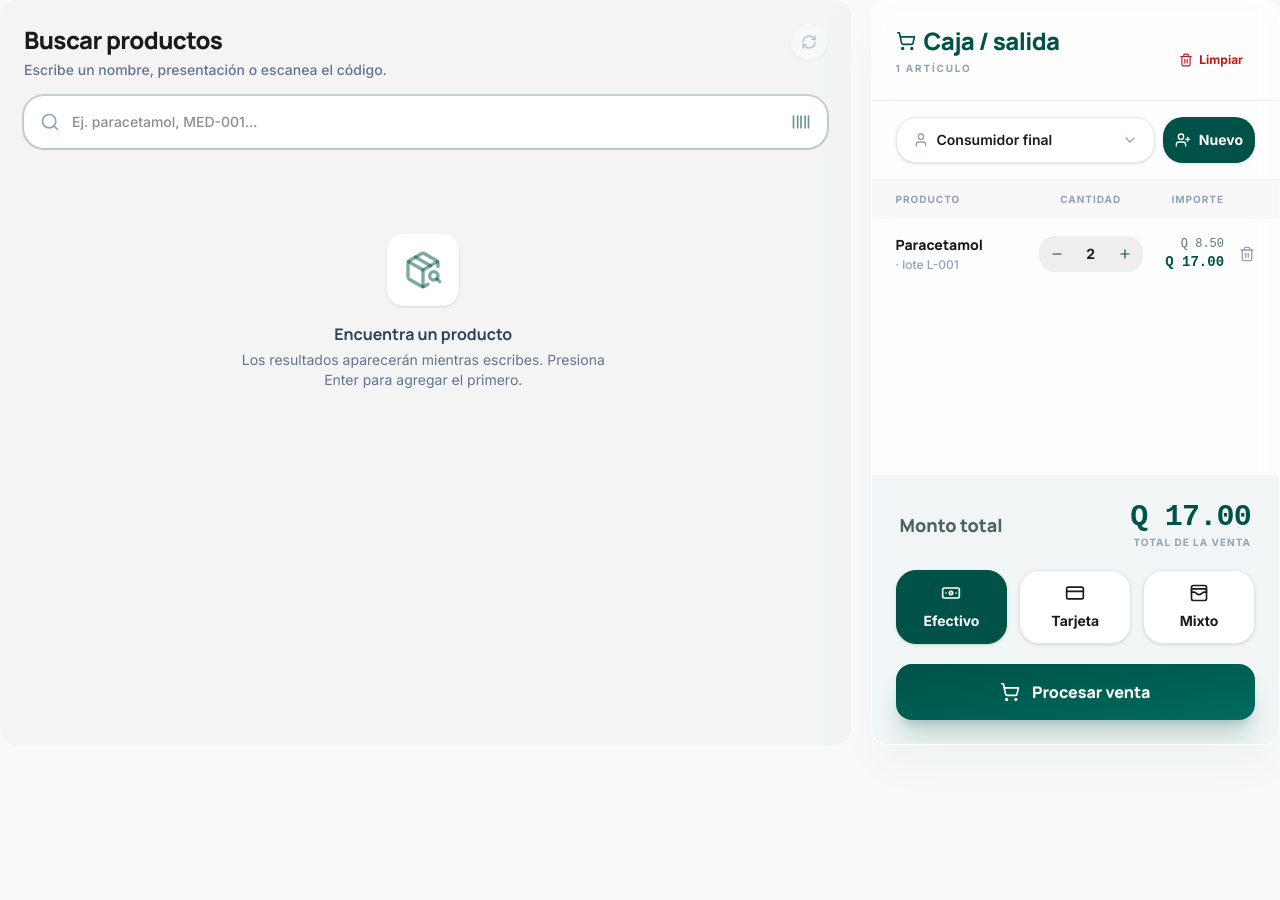
Test: PuntoVenta › registra una venta en efectivo desde el modal de cobro
The image size is (1280, 900).
Click the button "Procesar venta": {"x": 1075, "y": 692} [896, 664, 1255, 720]
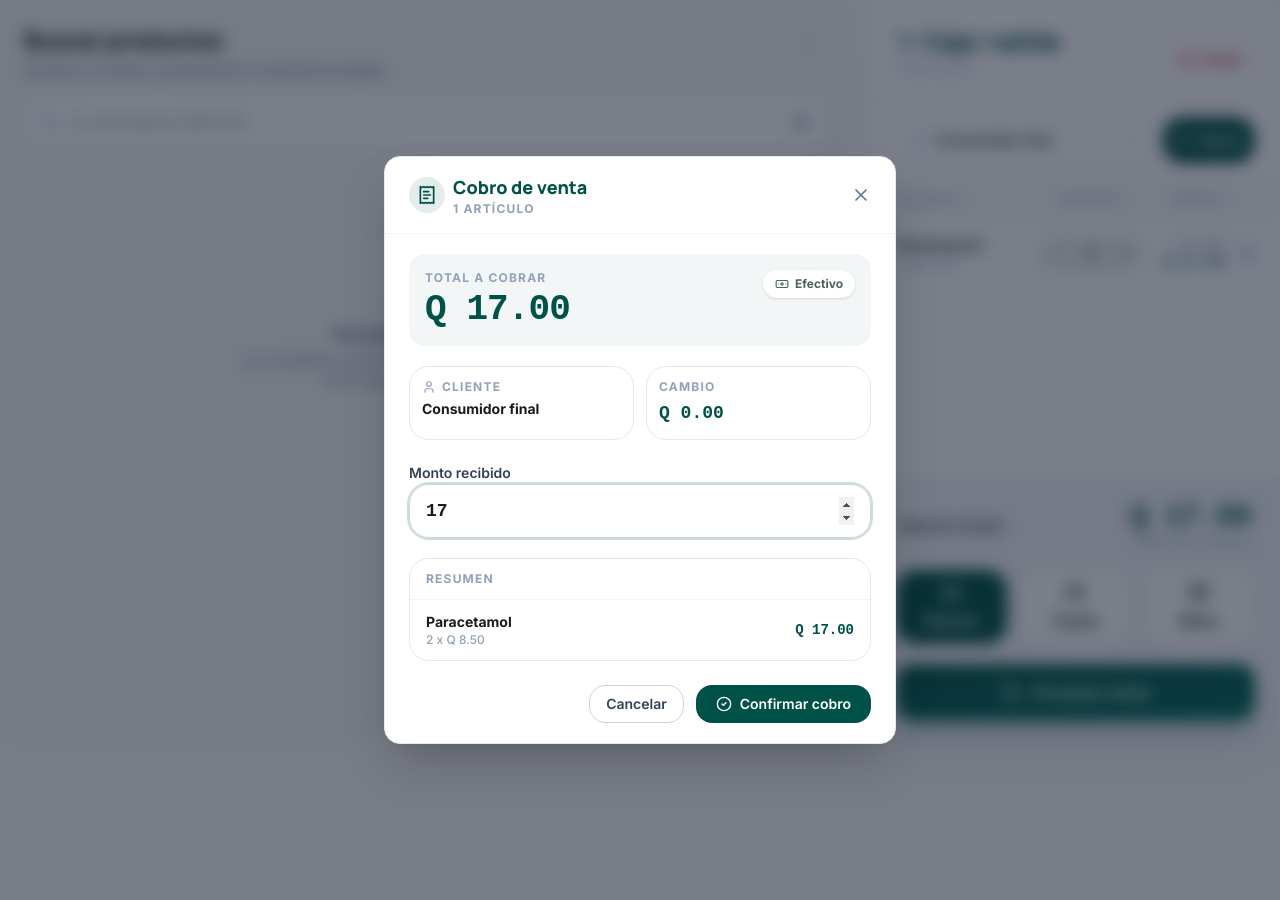
Clear the number field labelled "Monto recibido": {"x": 640, "y": 511} [409, 484, 871, 538]
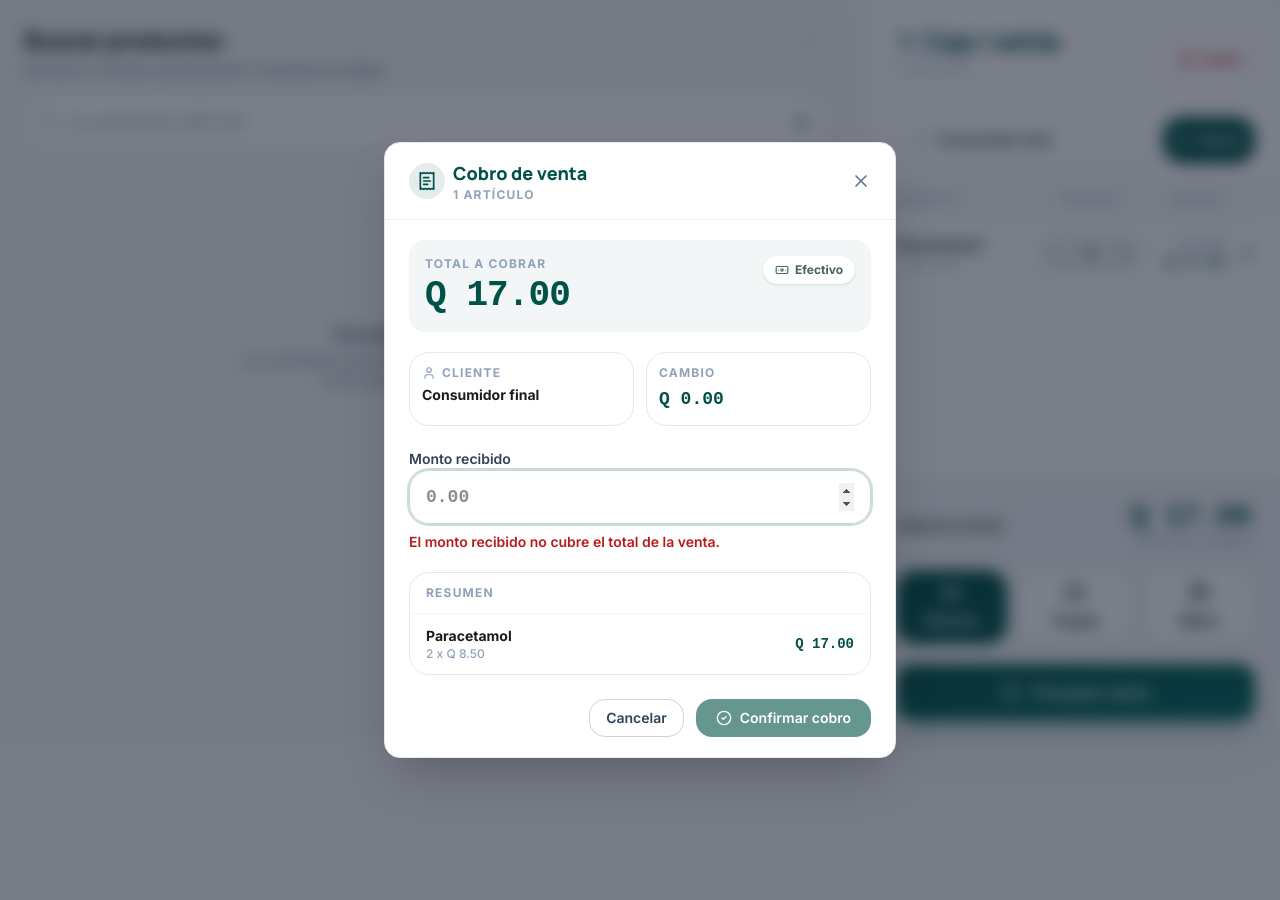
In the number field labelled "Monto recibido": {"x": 640, "y": 497} [409, 470, 871, 524], type "20"
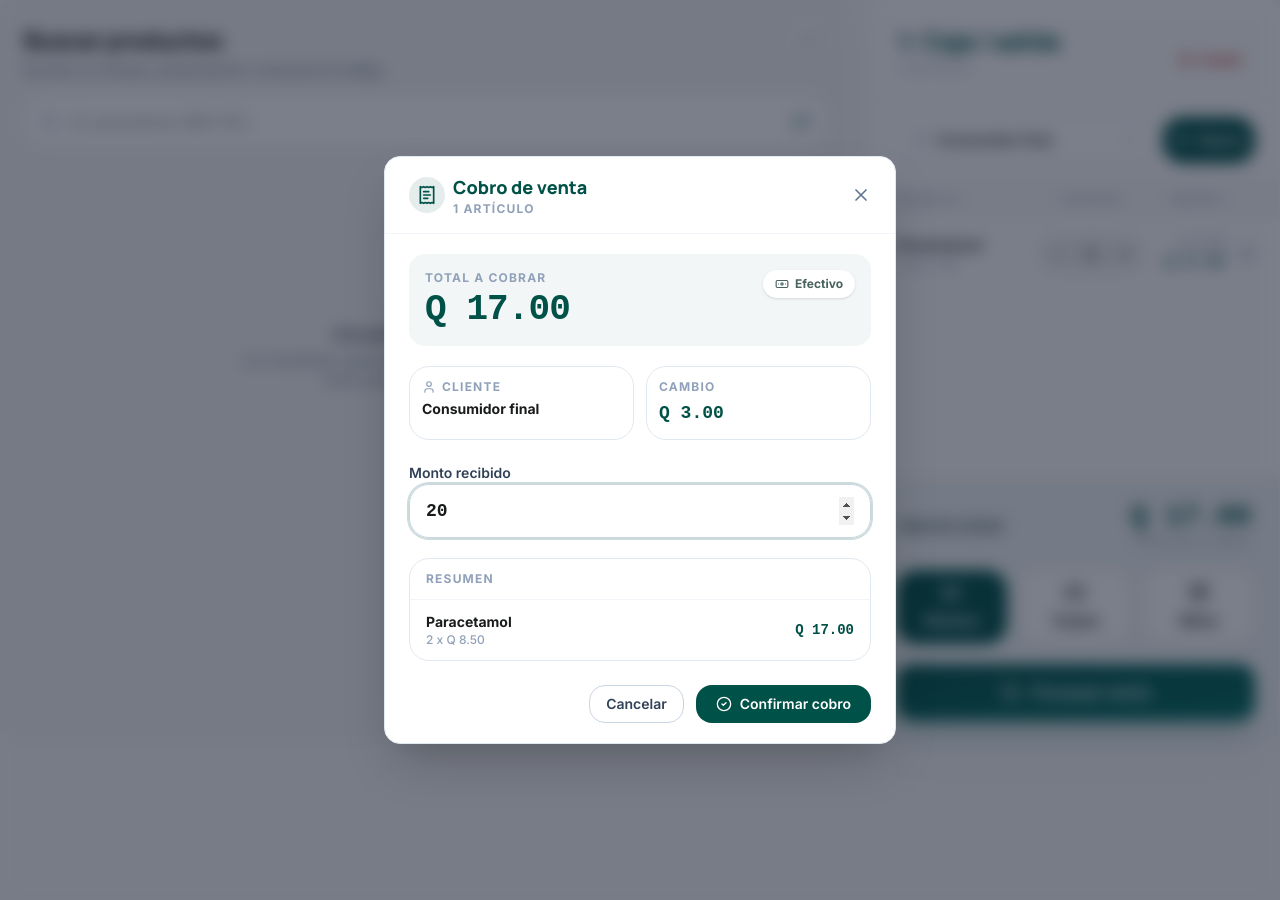
Click the button "Confirmar cobro": {"x": 783, "y": 704} [696, 685, 871, 723]
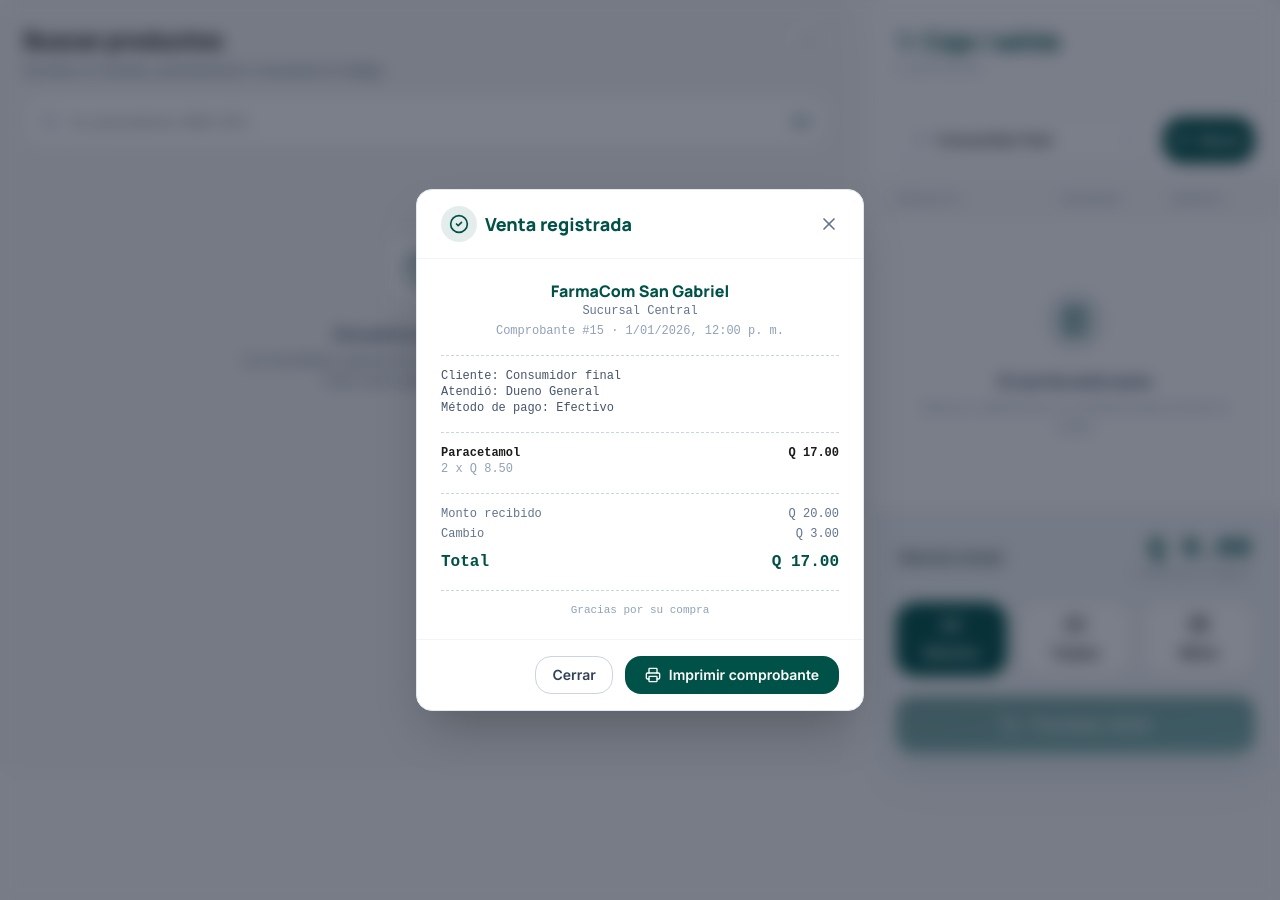
expect the heading "Venta registrada" is shown: met, box [485, 210, 632, 238]
expect the text "Comprobante #15 · 1/01/2026, 12:00 p. m." is shown: met, box [496, 324, 784, 338]
expect the button "Imprimir comprobante" is shown: met, box [625, 656, 839, 694]
